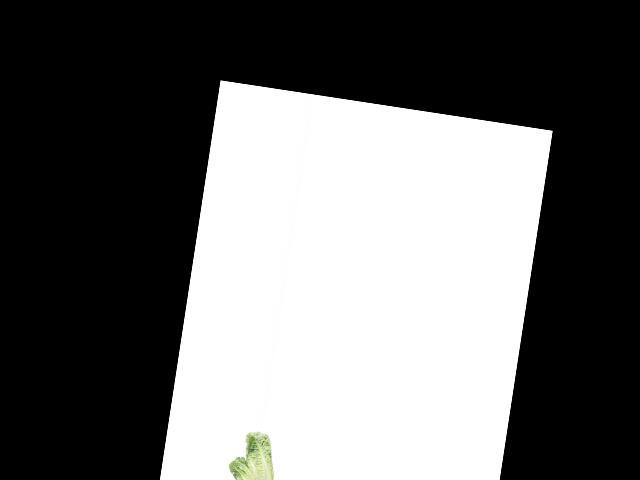lettuce: (223, 454, 272, 480)
